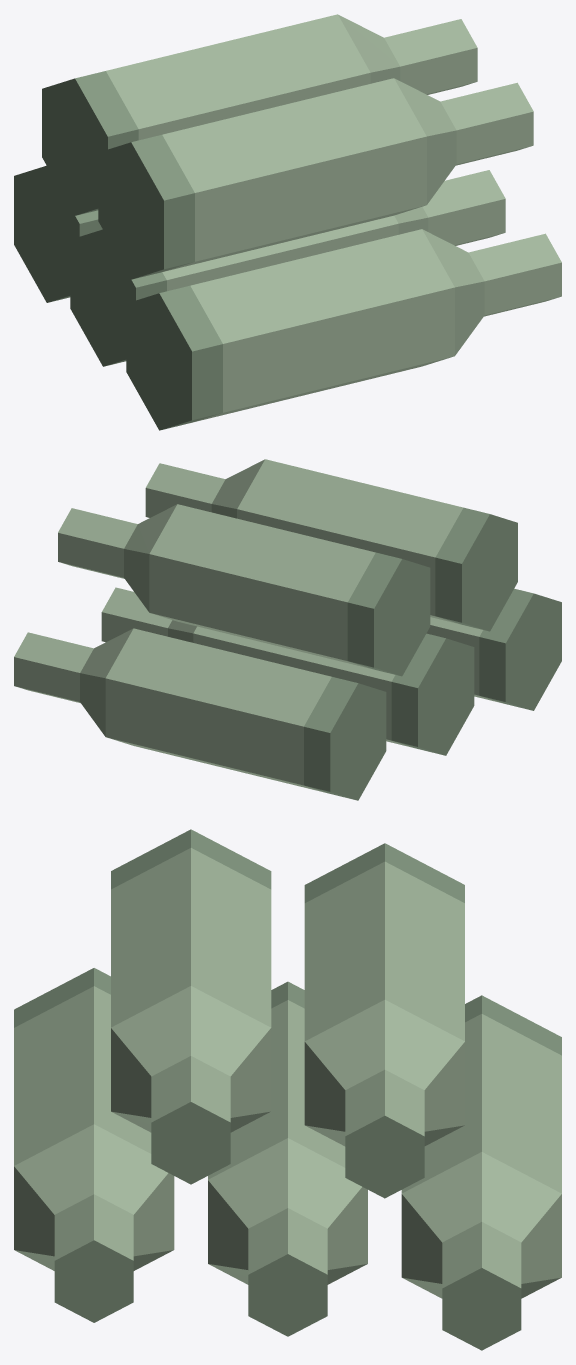
Rendered from item_shell_firefoam_c.obj.
3 views of the same model, one above another, from view 1: azimuth 30°, elevation 25°; view 2: azimuth 150°, elevation 25°; view 3: azimuth 270°, elevation 25° (orthographic). The views are drawn at different scales.
Bounding box in the file's own units: 0.7 × 0.3965 × 0.629.
